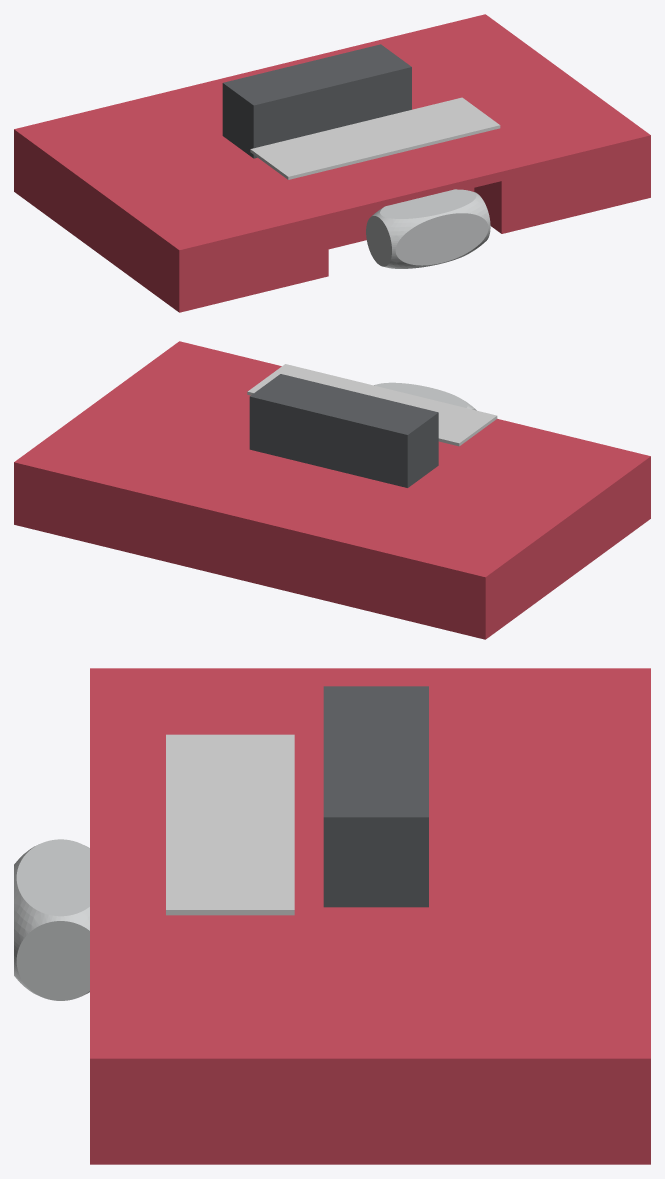
File: Bodacious Jaban.glb
3 views of the same model, one above another, from view 1: azimuth 30°, elevation 25°; view 2: azimuth 150°, elevation 25°; view 3: azimuth 270°, elevation 25° (orthographic). The views are drawn at different scales.
Parts seen in each view (by area): view 1: Mesh_Mesh_head_geo.001_lambert2SG.001; view 2: Mesh_Mesh_head_geo.001_lambert2SG.001; view 3: Mesh_Mesh_head_geo.001_lambert2SG.001.
Boxes of the visible parts, x1,y1,x2,y2 form: Mesh_Mesh_head_geo.001_lambert2SG.001: (14,14,650,312); Mesh_Mesh_head_geo.001_lambert2SG.001: (14,341,650,639); Mesh_Mesh_head_geo.001_lambert2SG.001: (14,668,650,1164).
Size of the model in its own units: 158 by 39 by 109.
